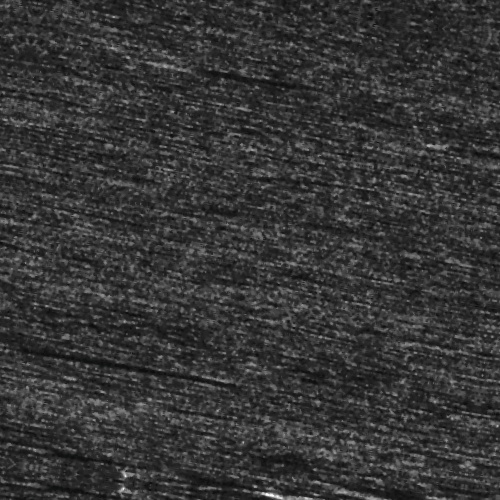object: (114, 74, 167, 81), (341, 476, 372, 485), (406, 111, 437, 116), (0, 378, 25, 383)
shadow: (357, 476, 500, 485), (141, 74, 315, 81), (0, 378, 213, 383), (422, 111, 484, 116)
